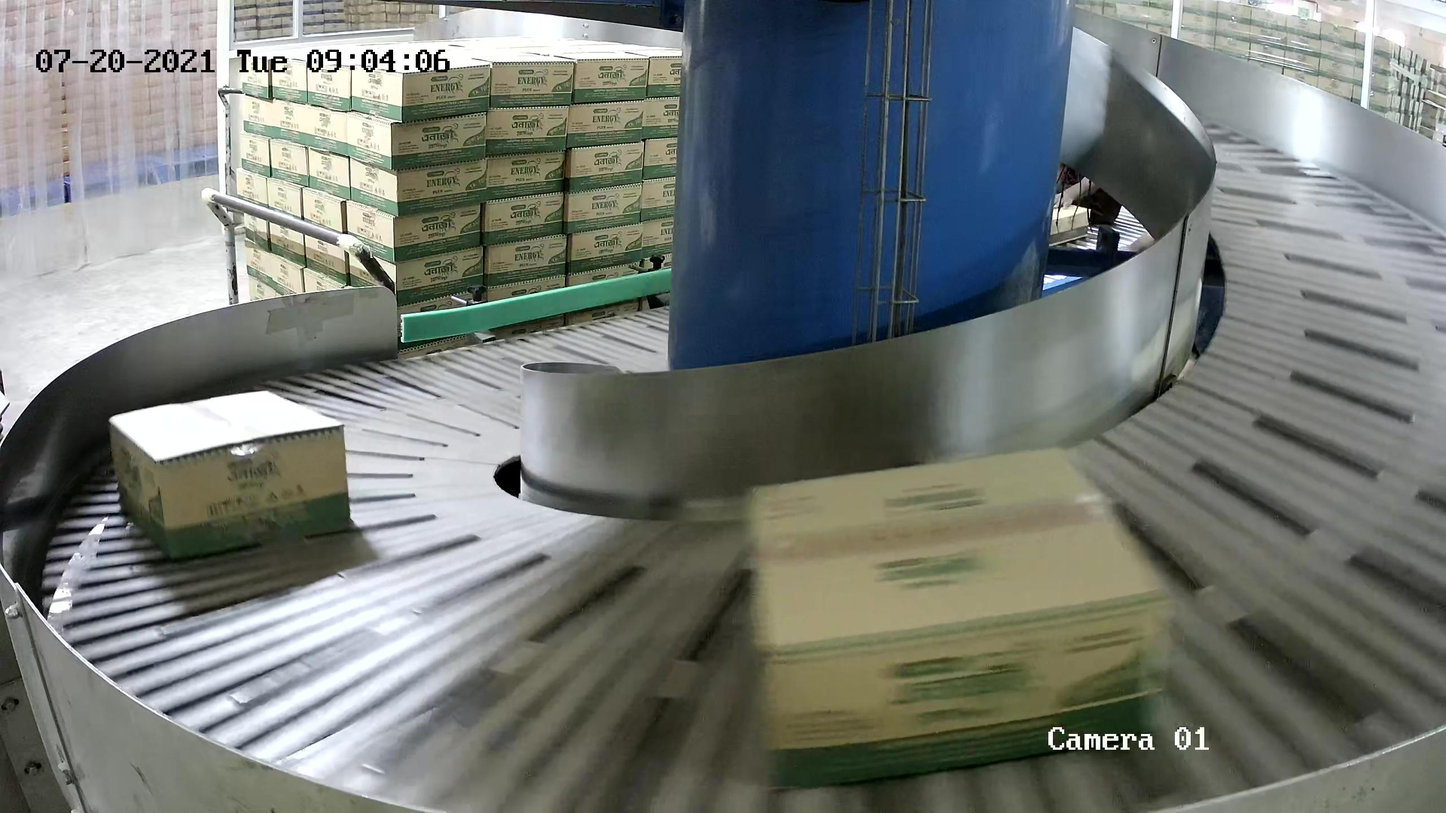Box: (742, 444, 1175, 795), (105, 385, 354, 561)
